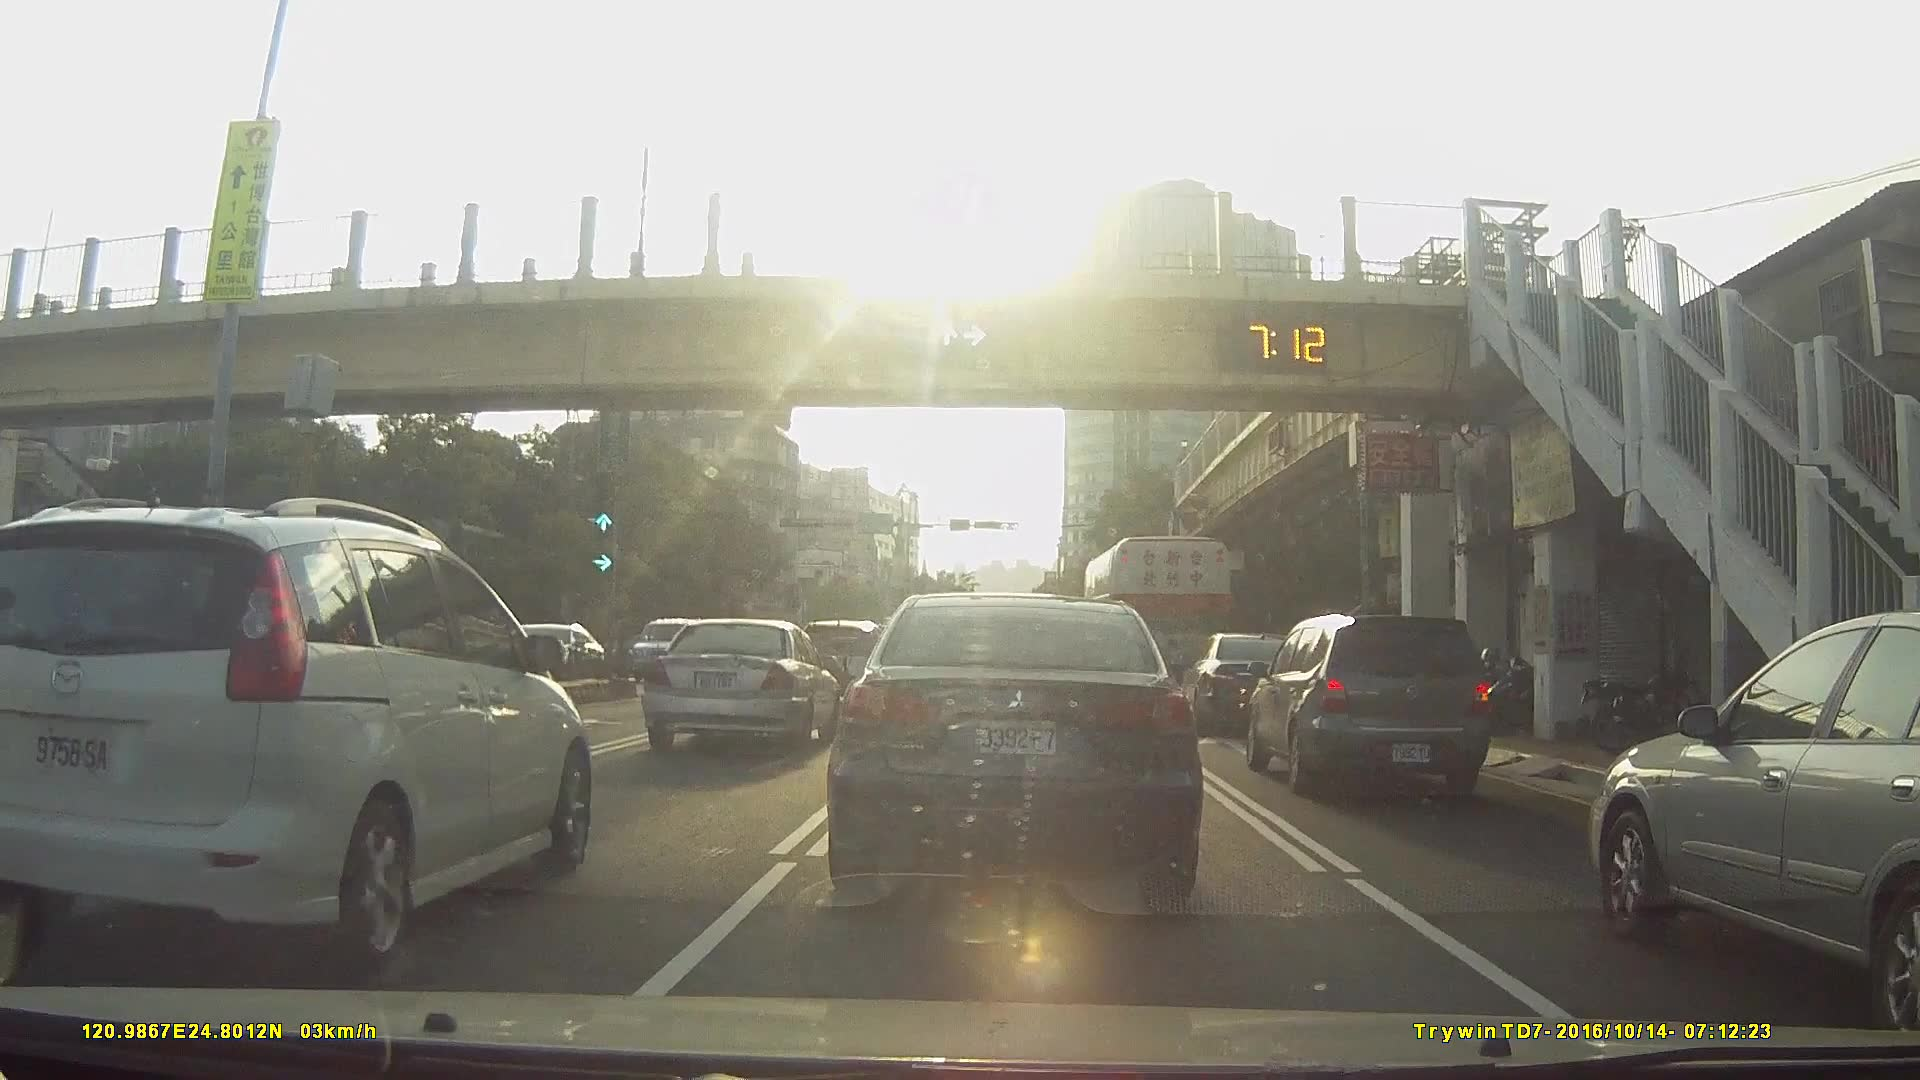vehicle: (0, 495, 597, 957), (1586, 607, 1920, 1033), (823, 585, 1200, 919), (1238, 611, 1489, 796), (641, 615, 841, 754), (1185, 632, 1309, 733), (480, 618, 620, 699), (769, 609, 862, 696), (621, 616, 717, 680)
